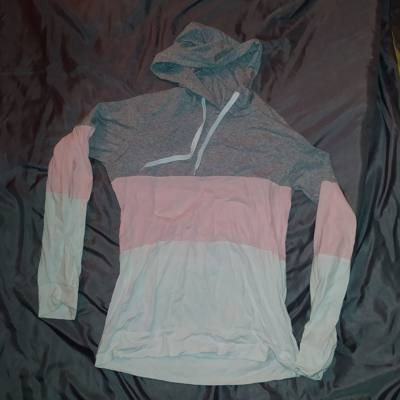Hoodie: (35, 32, 370, 388)
